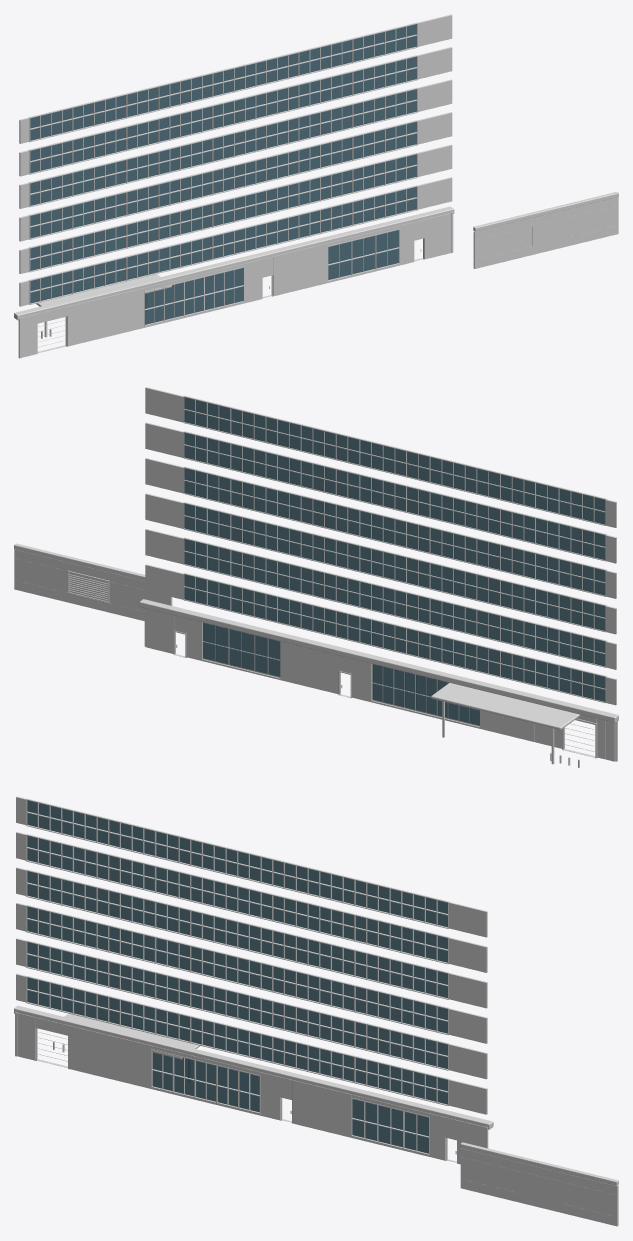
Rendered from Hospital_EXT_RearService.fbx.
3 views of the same model, one above another, from view 1: azimuth 30°, elevation 25°; view 2: azimuth 150°, elevation 25°; view 3: azimuth 330°, elevation 25° (orthographic). The views are drawn at different scales.
Parts seen in each view (by area): view 1: UE_EXT_RearService_GLASS_L05_07_01, UE_EXT_RearService_GLASS_L02_04_01, UE_EXT_RearService_OPAQUE_L02_04_01, UE_EXT_RearService_OPAQUE_L05_07_01, UE_EXT_RearService_OPAQUE_L01_04, UE_EXT_RearService_GLASS_L01_03, UE_EXT_RearService_GLASS_L01_04, UE_EXT_RearService_OPAQUE_L01_05, UE_EXT_RearService_OPAQUE_L05_07_02, UE_EXT_RearService_OPAQUE_L02_04_02, UE_EXT_RearService_GLASS_L01_01, UE_EXT_RearService_OPAQUE_L01_02 (+1 smaller); view 2: UE_EXT_RearService_GLASS_L02_04_01, UE_EXT_RearService_GLASS_L05_07_01, UE_EXT_RearService_OPAQUE_L02_04_01, UE_EXT_RearService_OPAQUE_L05_07_01, UE_EXT_RearService_OPAQUE_L01_04, UE_EXT_RearService_OPAQUE_L01_05, UE_EXT_RearService_GLASS_L01_04, UE_EXT_RearService_GLASS_L01_03, UE_EXT_RearService_OPAQUE_L05_07_02, UE_EXT_RearService_OPAQUE_L02_04_02, UE_EXT_RearService_OPAQUE_L01_01, UE_EXT_RearService_GLASS_L01_01 (+1 smaller); view 3: UE_EXT_RearService_GLASS_L05_07_01, UE_EXT_RearService_GLASS_L02_04_01, UE_EXT_RearService_OPAQUE_L05_07_01, UE_EXT_RearService_OPAQUE_L02_04_01, UE_EXT_RearService_OPAQUE_L01_04, UE_EXT_RearService_GLASS_L01_03, UE_EXT_RearService_GLASS_L01_04, UE_EXT_RearService_OPAQUE_L01_05, UE_EXT_RearService_OPAQUE_L02_04_02, UE_EXT_RearService_OPAQUE_L05_07_02, UE_EXT_RearService_GLASS_L01_01, UE_EXT_RearService_OPAQUE_L01_02.
Boxes of the visible parts, bbox=[...] form: UE_EXT_RearService_GLASS_L05_07_01: bbox=[30, 24, 416, 205]; UE_EXT_RearService_GLASS_L02_04_01: bbox=[30, 122, 416, 303]; UE_EXT_RearService_OPAQUE_L02_04_01: bbox=[29, 120, 417, 304]; UE_EXT_RearService_OPAQUE_L05_07_01: bbox=[29, 22, 417, 207]; UE_EXT_RearService_OPAQUE_L01_04: bbox=[21, 197, 618, 357]; UE_EXT_RearService_GLASS_L01_03: bbox=[67, 225, 399, 346]; UE_EXT_RearService_GLASS_L01_04: bbox=[145, 230, 398, 324]; UE_EXT_RearService_OPAQUE_L01_05: bbox=[14, 191, 618, 320]; UE_EXT_RearService_OPAQUE_L05_07_02: bbox=[19, 14, 452, 208]; UE_EXT_RearService_OPAQUE_L02_04_02: bbox=[19, 112, 452, 306]; UE_EXT_RearService_GLASS_L01_01: bbox=[144, 228, 400, 326]; UE_EXT_RearService_OPAQUE_L01_02: bbox=[37, 217, 568, 353]; UE_EXT_RearService_GLASS_L02_04_01: bbox=[184, 503, 605, 701]; UE_EXT_RearService_GLASS_L05_07_01: bbox=[184, 397, 605, 595]; UE_EXT_RearService_OPAQUE_L02_04_01: bbox=[183, 502, 606, 703]; UE_EXT_RearService_OPAQUE_L05_07_01: bbox=[183, 395, 606, 596]; UE_EXT_RearService_OPAQUE_L01_04: bbox=[14, 549, 615, 761]; UE_EXT_RearService_OPAQUE_L01_05: bbox=[14, 543, 618, 729]; UE_EXT_RearService_GLASS_L01_04: bbox=[203, 622, 479, 725]; UE_EXT_RearService_GLASS_L01_03: bbox=[202, 641, 562, 748]; UE_EXT_RearService_OPAQUE_L05_07_02: bbox=[145, 387, 616, 598]; UE_EXT_RearService_OPAQUE_L02_04_02: bbox=[145, 493, 616, 705]; UE_EXT_RearService_OPAQUE_L01_01: bbox=[67, 570, 617, 767]; UE_EXT_RearService_GLASS_L01_01: bbox=[202, 623, 479, 726]; UE_EXT_RearService_GLASS_L05_07_01: bbox=[27, 800, 447, 998]; UE_EXT_RearService_GLASS_L02_04_01: bbox=[27, 906, 447, 1104]; UE_EXT_RearService_OPAQUE_L05_07_01: bbox=[25, 798, 449, 999]; UE_EXT_RearService_OPAQUE_L02_04_01: bbox=[25, 905, 449, 1105]; UE_EXT_RearService_OPAQUE_L01_04: bbox=[17, 1013, 618, 1226]; UE_EXT_RearService_GLASS_L01_03: bbox=[68, 1025, 429, 1156]; UE_EXT_RearService_GLASS_L01_04: bbox=[152, 1052, 428, 1153]; UE_EXT_RearService_OPAQUE_L01_05: bbox=[14, 1005, 618, 1185]; UE_EXT_RearService_OPAQUE_L02_04_02: bbox=[16, 903, 487, 1114]; UE_EXT_RearService_OPAQUE_L05_07_02: bbox=[16, 796, 487, 1008]; UE_EXT_RearService_GLASS_L01_01: bbox=[151, 1049, 429, 1155]; UE_EXT_RearService_OPAQUE_L01_02: bbox=[37, 1032, 563, 1203].
Size of the model in its own units: 72.45 by 28.68 by 9.18.
